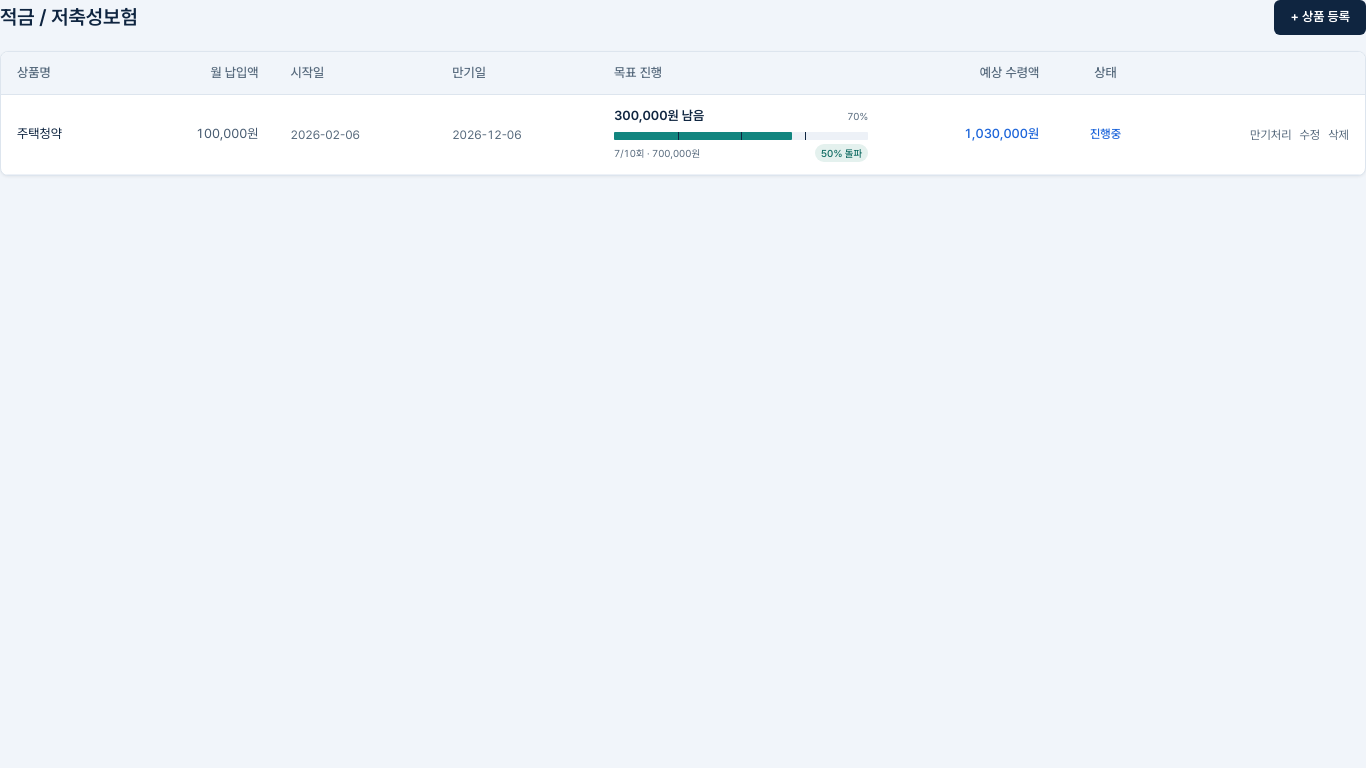
Test: 만기 처리 › 만기 처리가 실패하면 서버 메시지를 알린다
Click the button "만기처리" at (1271, 134), box [1250,126,1292,142]
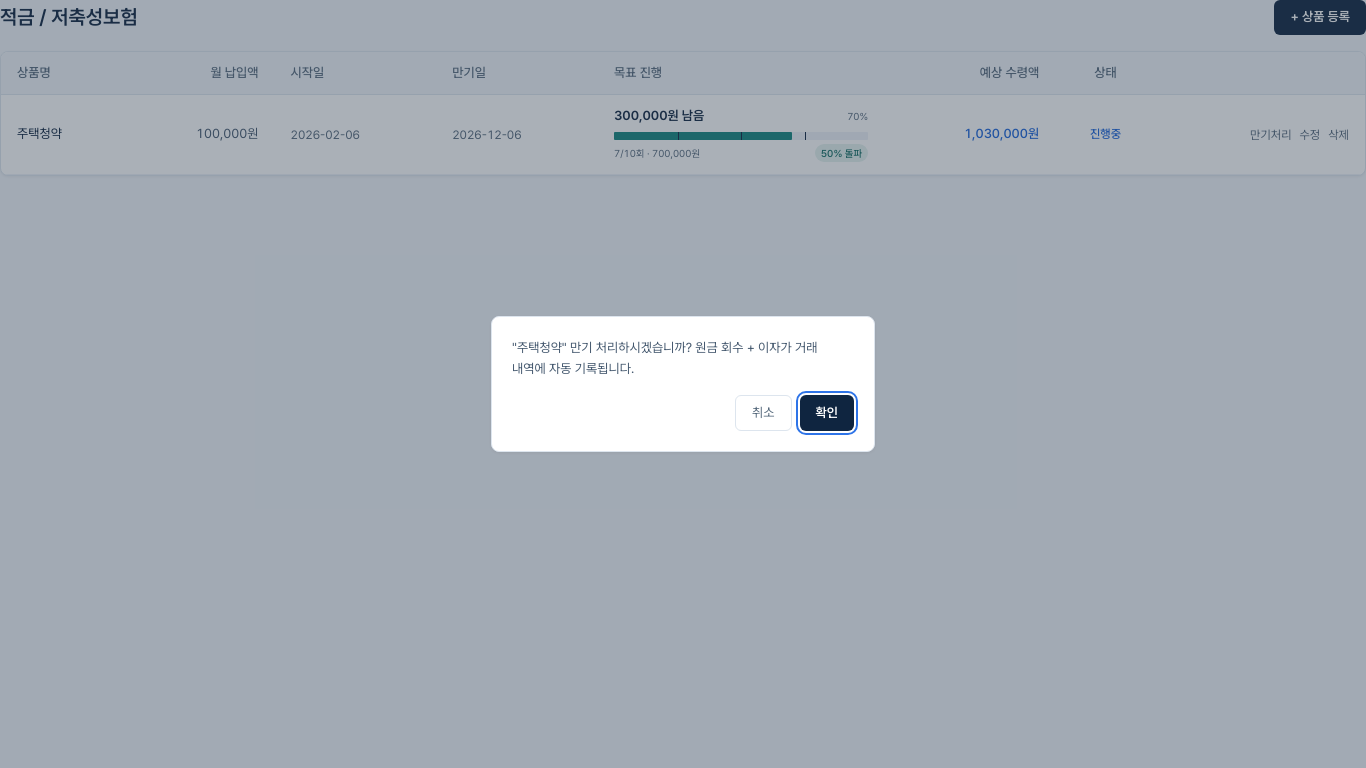
Click the button "확인" at (827, 413), box [800,395,854,431]
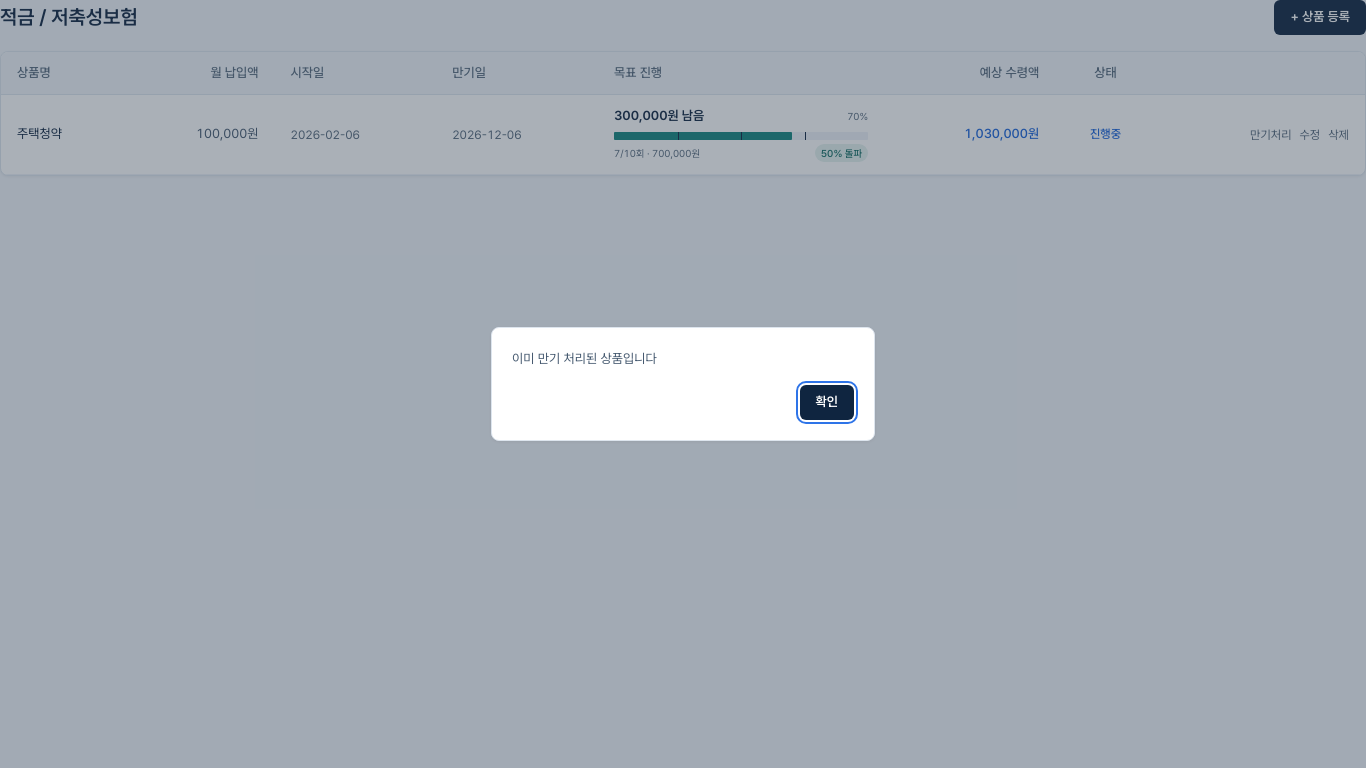
Expected: the text "이미 만기 처리된 상품입니다" is shown, [512,351,657,366]
